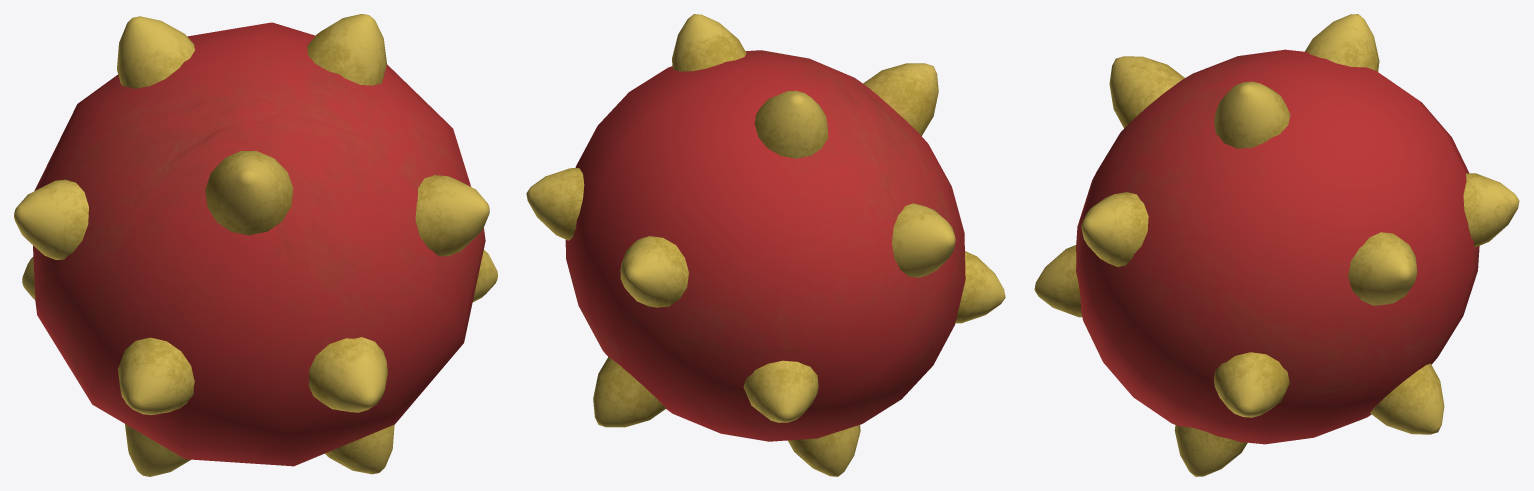
The model's file is Ball.fbx.
The picture shows the model from 3 angles, left to right: view 1: azimuth 30°, elevation 25°; view 2: azimuth 150°, elevation 25°; view 3: azimuth 270°, elevation 25°; orthographic projection. The views are drawn at different scales.
Visible parts, largest first — view 1: Ball_Animation1:group6; view 2: Ball_Animation1:group6; view 3: Ball_Animation1:group6.
Part boxes in pixels (x1,y1,x2,y2): Ball_Animation1:group6: (14, 14, 497, 476); Ball_Animation1:group6: (526, 14, 1005, 476); Ball_Animation1:group6: (1034, 14, 1519, 476).
Size of the model in its own units: 1180 by 1107 by 1211.
